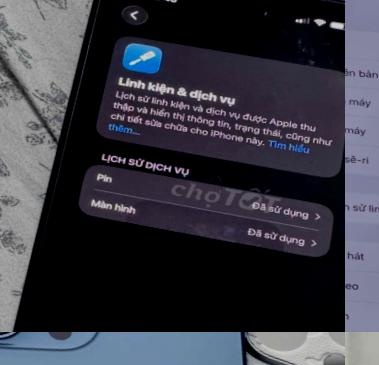scratch: (270, 19, 345, 78)
